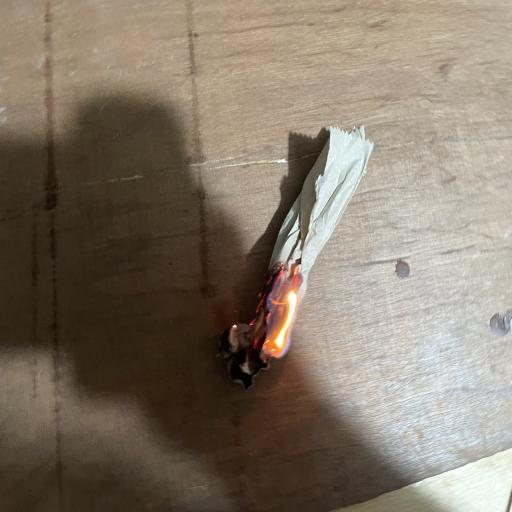fire: (229, 260, 307, 392)
